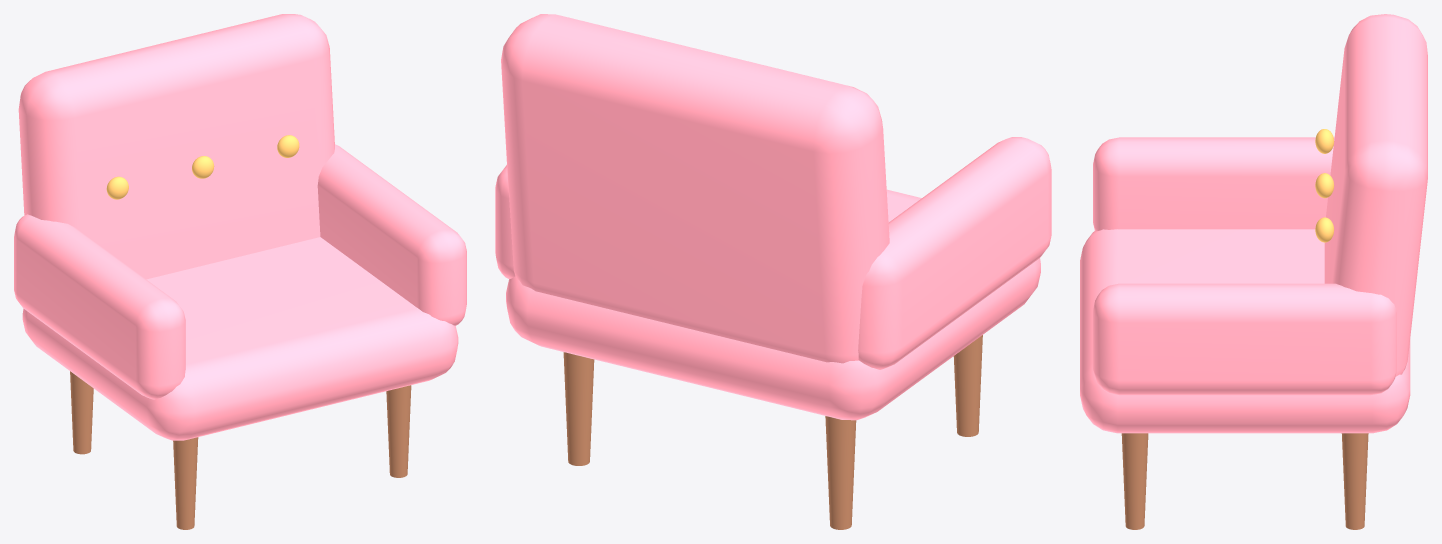
The model's file is lotus_lounge.glb.
3 views of the same model, side by side, from view 1: azimuth 30°, elevation 25°; view 2: azimuth 150°, elevation 25°; view 3: azimuth 270°, elevation 25° (orthographic). The views are drawn at different scales.
Parts seen in each view (by area): view 1: lotus_lounge; view 2: lotus_lounge; view 3: lotus_lounge.
Part boxes in pixels (x1=…): lotus_lounge: x1=14, y1=14, x2=466, y2=529; lotus_lounge: x1=495, y1=14, x2=1051, y2=529; lotus_lounge: x1=1080, y1=14, x2=1427, y2=529.
Size of the model in its own units: 0.77 by 0.8245 by 0.6639.
